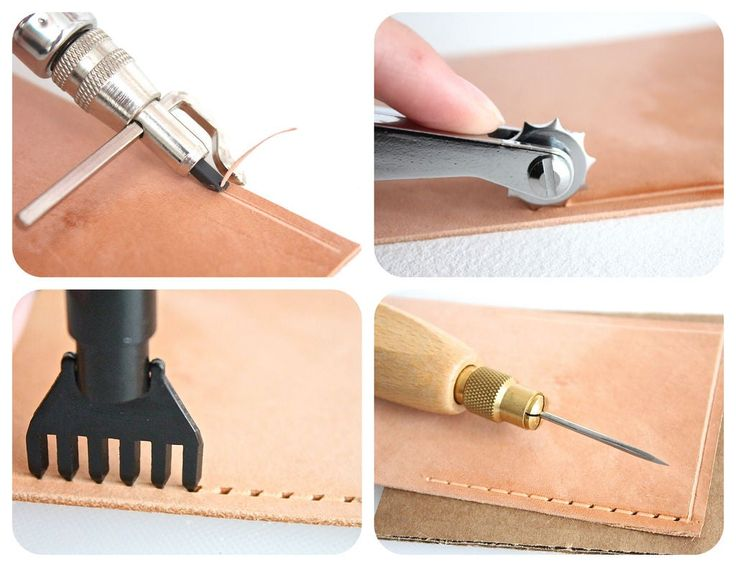cuero: (6, 75, 729, 538)
